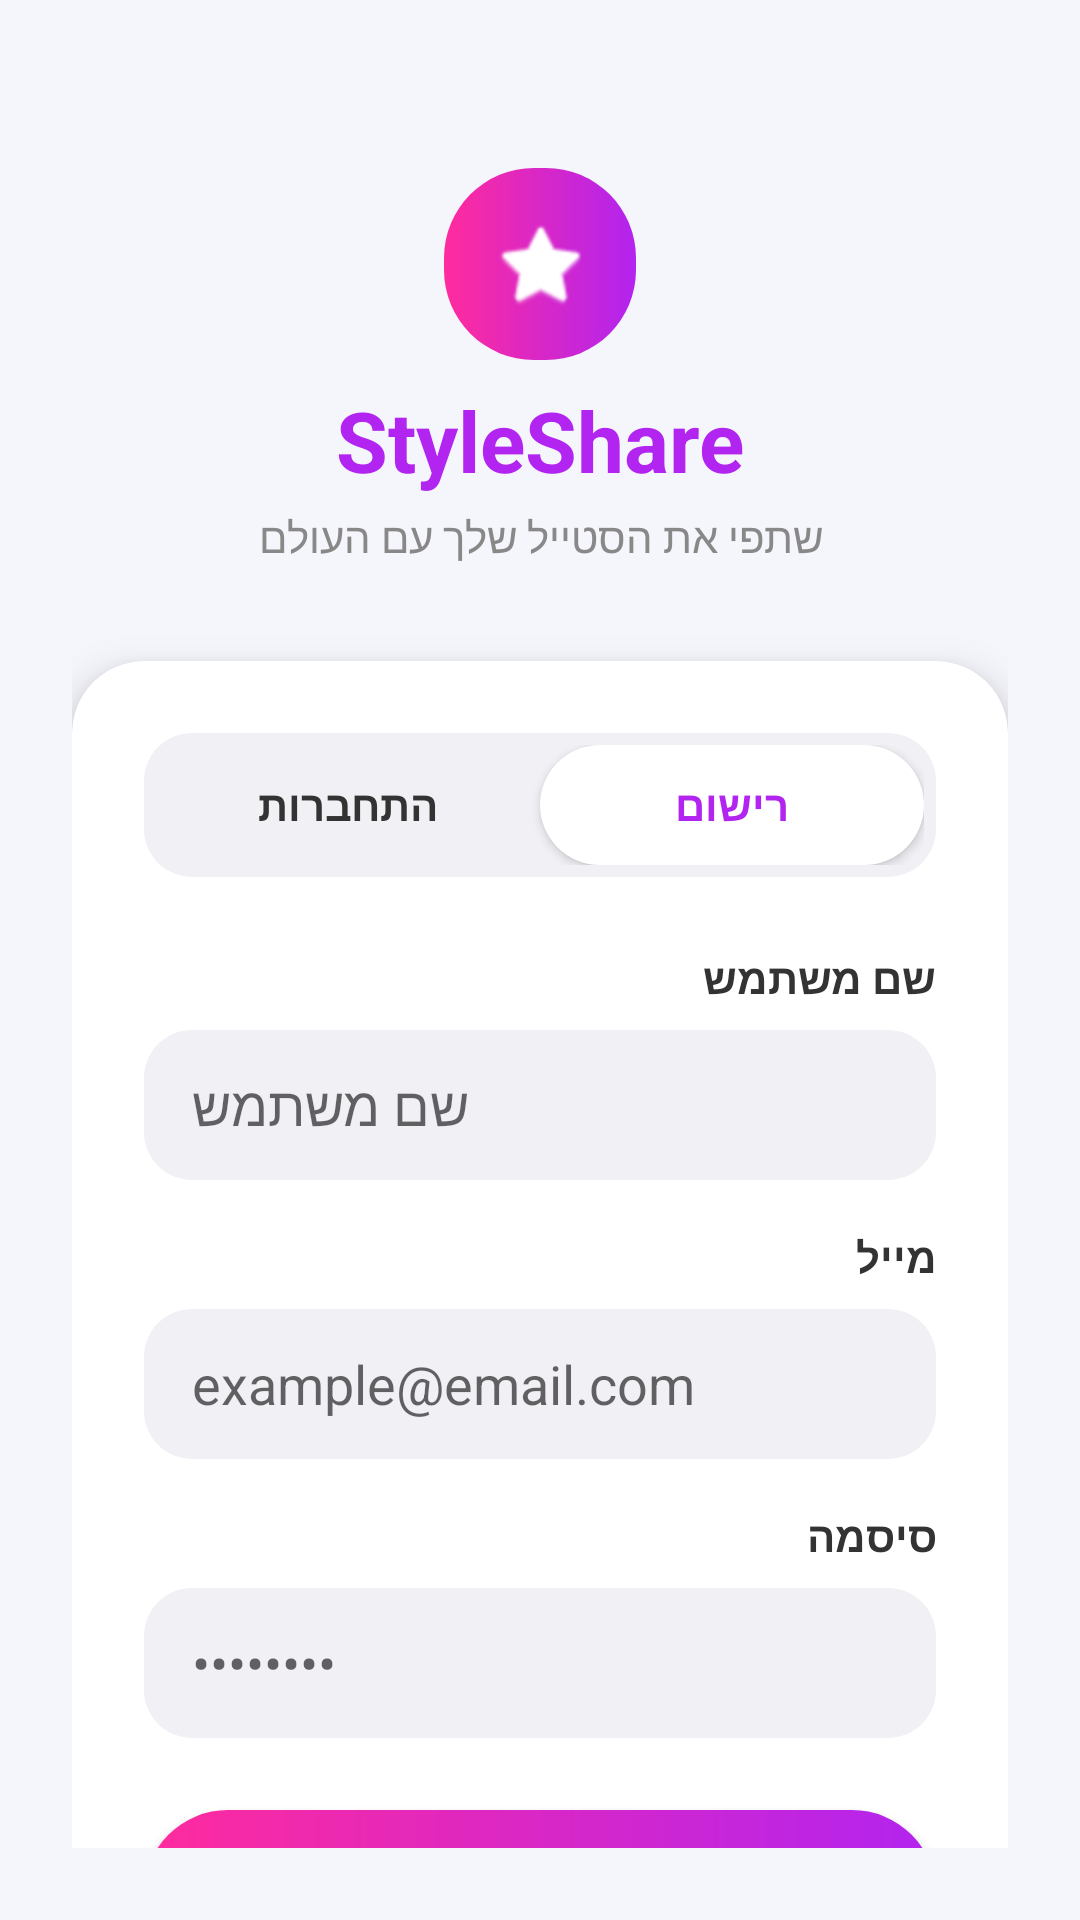

Locate icon controls on the screen. Image size 1080px x 1920px, boxes as (x1, y1, x2, y2).
star on: (444, 168, 636, 360)
